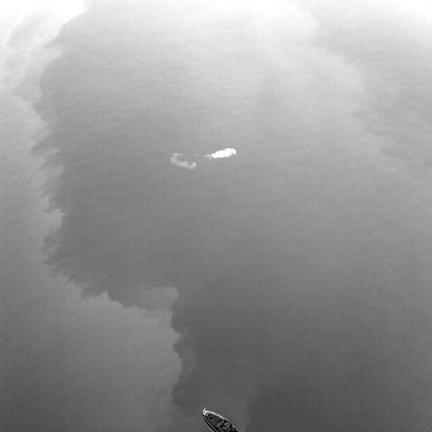flukeprints: (205, 148, 236, 157)
